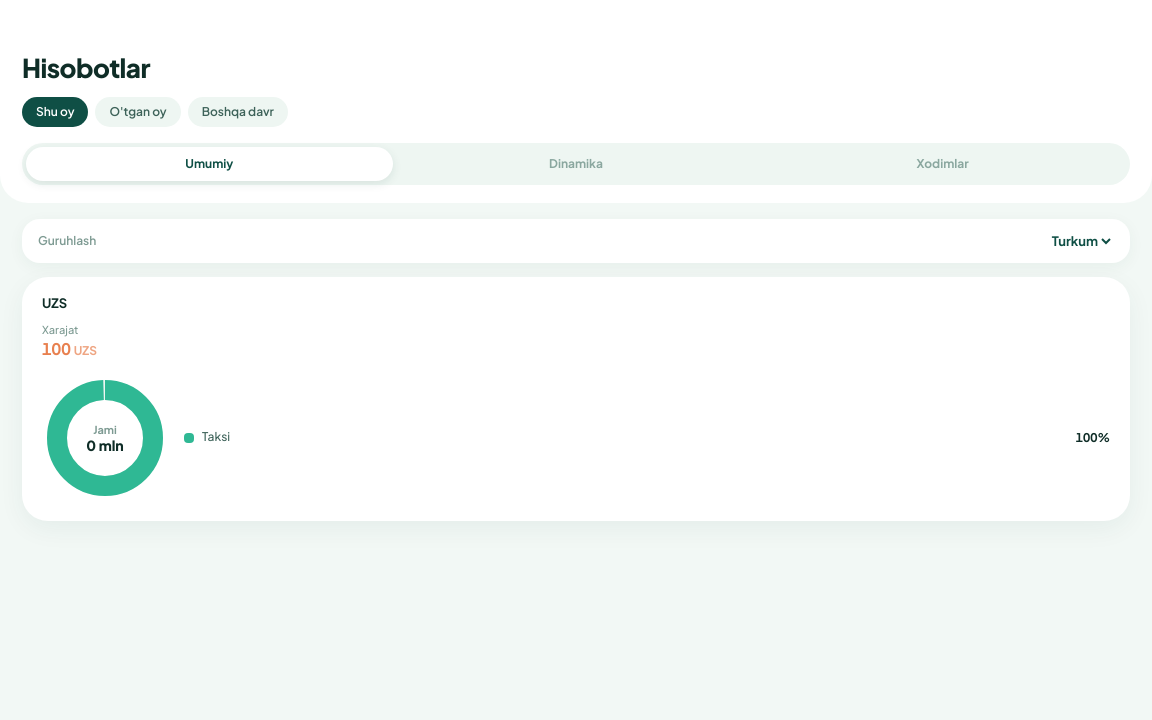
switches to the trend view on click and back
Expected: the element with test id "currency-UZS" is shown, [22,277,1130,521]
Step 1. Click the button "Dinamika" → (576, 164), box [393,147,759,181]
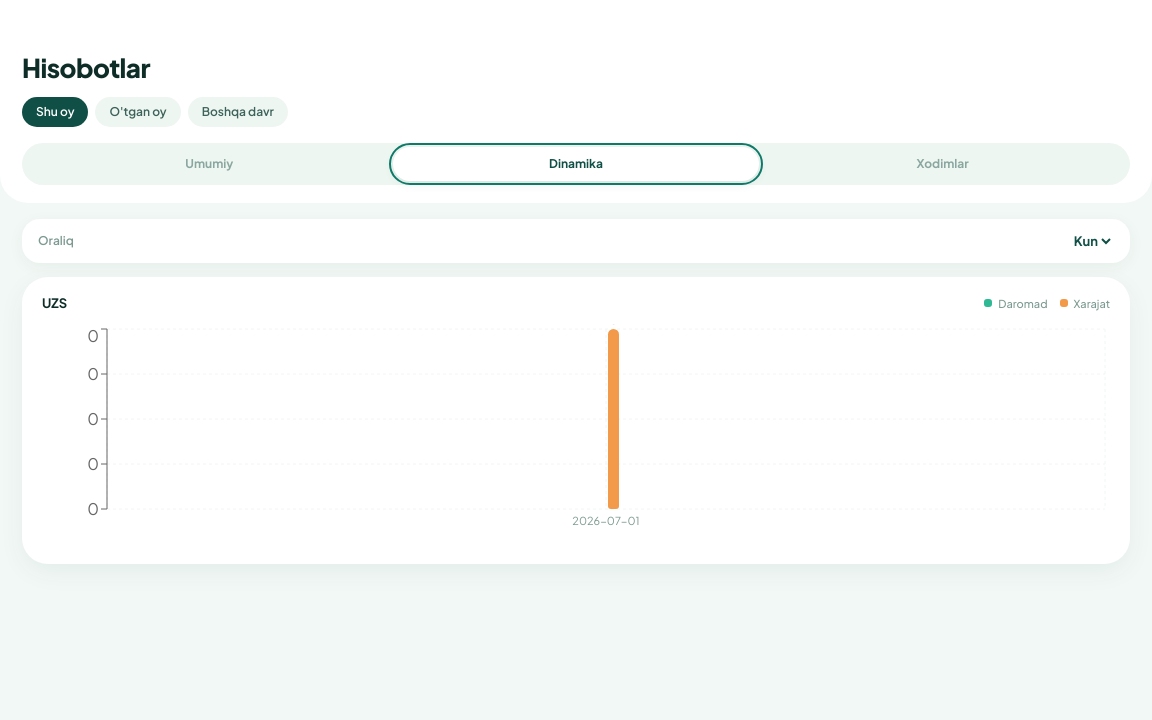
Expected: the element with test id "trend-UZS" is shown, [22,277,1130,564]
Expected: the element with test id "currency-UZS" is gone
Step 2. Click the button "Umumiy" → (209, 164), box [26,147,393,181]
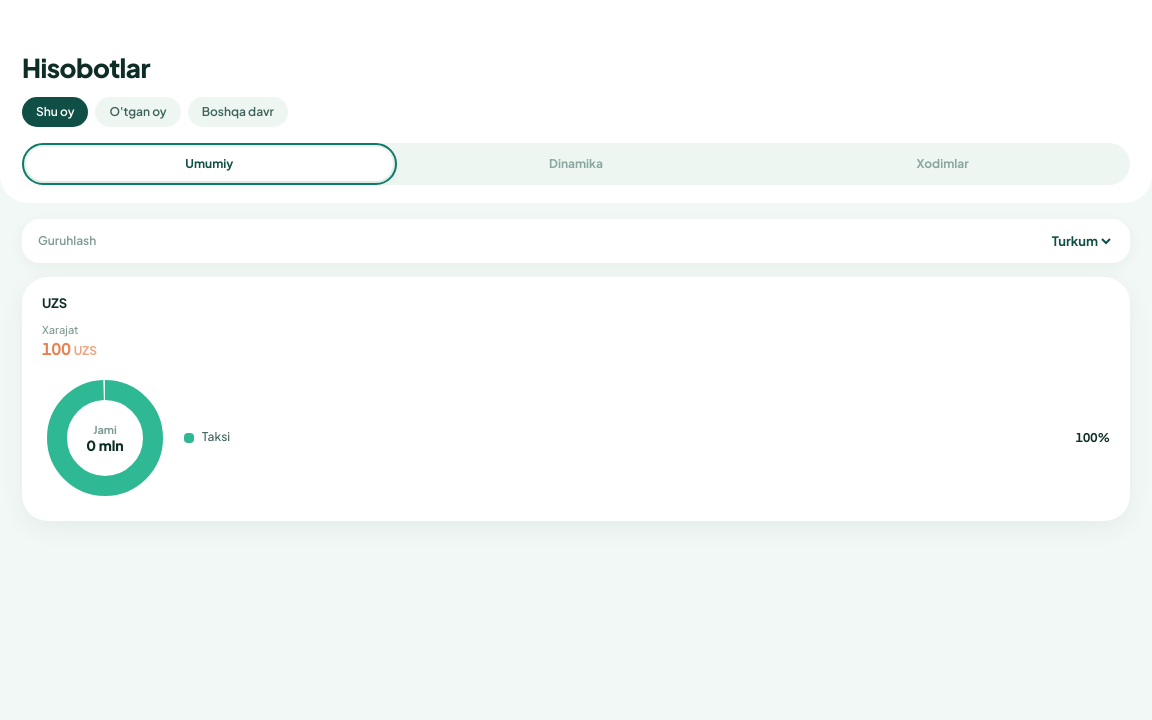
Expected: the element with test id "currency-UZS" is shown, [22,277,1130,521]
Expected: the element with test id "trend-UZS" is gone
